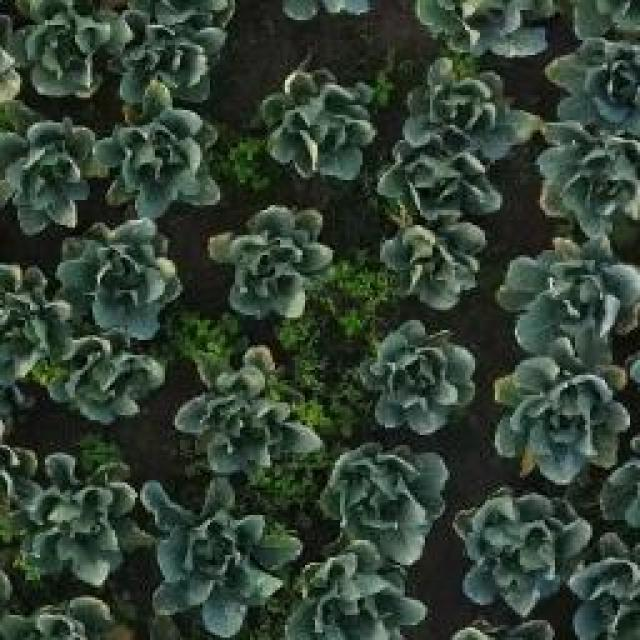cabbage: (488, 346, 631, 481), (158, 500, 294, 623), (93, 87, 232, 205), (180, 354, 313, 477), (462, 490, 593, 606), (49, 220, 183, 329), (502, 240, 640, 345), (217, 205, 333, 325), (321, 441, 452, 547), (27, 463, 147, 575), (375, 192, 485, 310), (361, 323, 480, 430), (267, 72, 378, 183), (538, 128, 640, 238), (43, 340, 177, 423), (0, 108, 100, 218), (297, 550, 418, 640), (399, 63, 523, 147), (123, 0, 242, 83), (382, 142, 506, 214), (0, 0, 103, 82), (413, 0, 555, 55), (552, 40, 640, 125)
